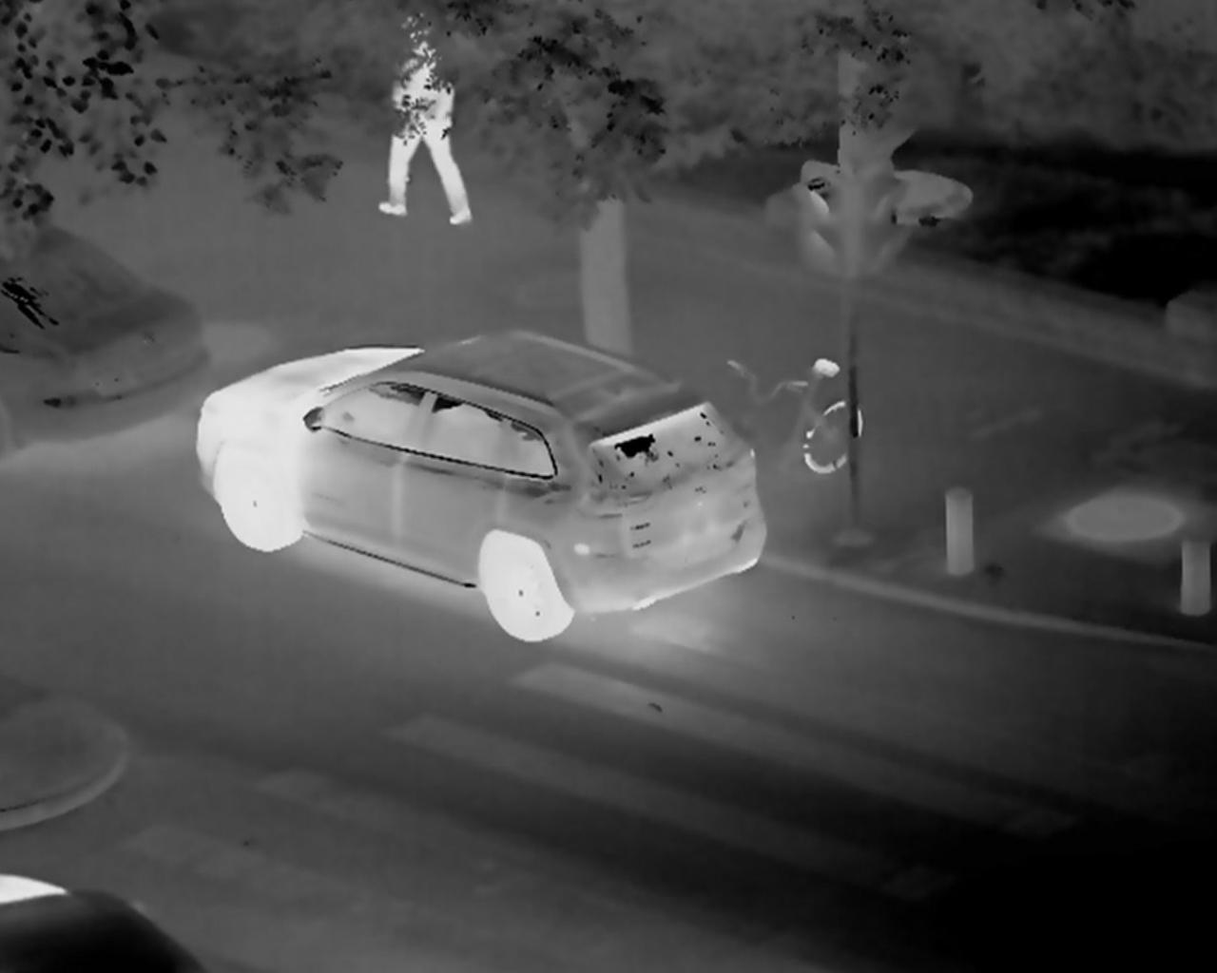person: (374, 12, 477, 229)
